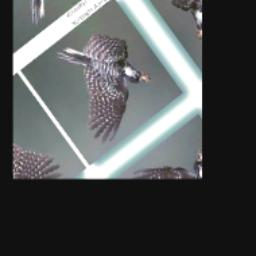Woodpecker: (38, 13, 172, 155)
